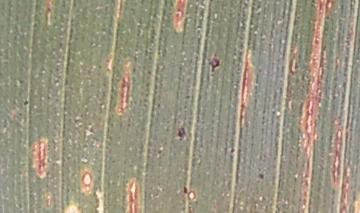tarspot: (204, 54, 226, 73), (174, 127, 190, 141), (255, 172, 268, 182), (181, 186, 190, 195), (22, 100, 31, 107)
